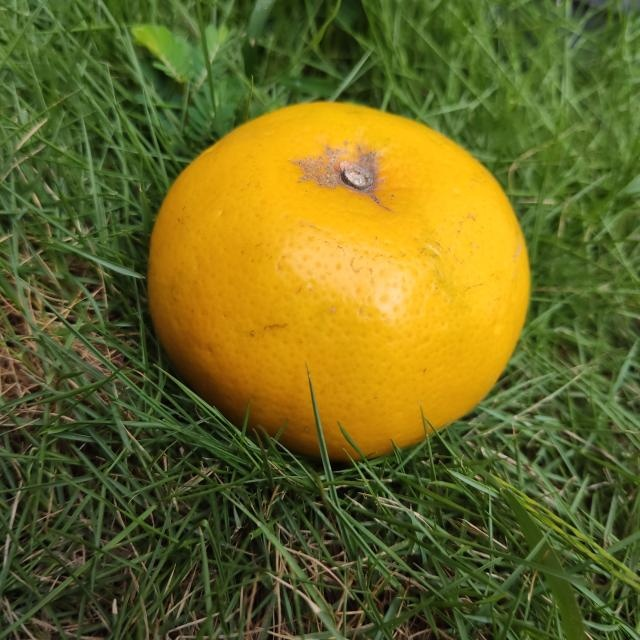agrume: (141, 97, 533, 465)
